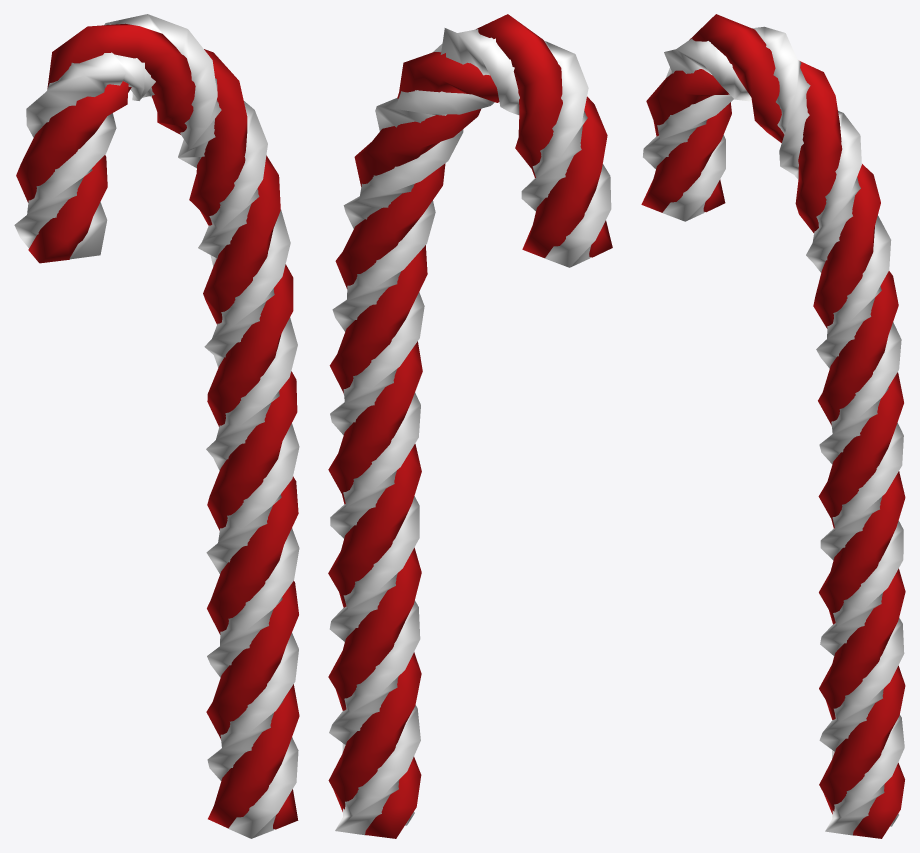
The model's file is candyzipang.fbx.
3 renders of one model, left to right at view 1: azimuth 30°, elevation 25°; view 2: azimuth 150°, elevation 25°; view 3: azimuth 330°, elevation 25°, orthographic. The views are drawn at different scales.
Visible parts, largest first — view 1: Baston de Caramelo.009; view 2: Baston de Caramelo.009; view 3: Baston de Caramelo.009.
Boxes of the visible parts, x1,y1,x2,y2 form: Baston de Caramelo.009: [14, 14, 299, 838]; Baston de Caramelo.009: [328, 14, 612, 838]; Baston de Caramelo.009: [641, 14, 905, 838].
Size of the model in its own units: 584 by 175 by 1710.
